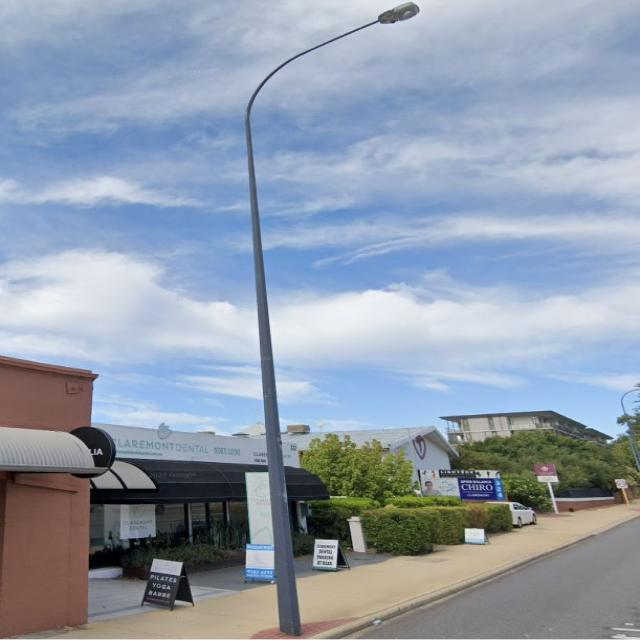steel-pole: (245, 114, 302, 637)
streetlight: (245, 1, 419, 121)
